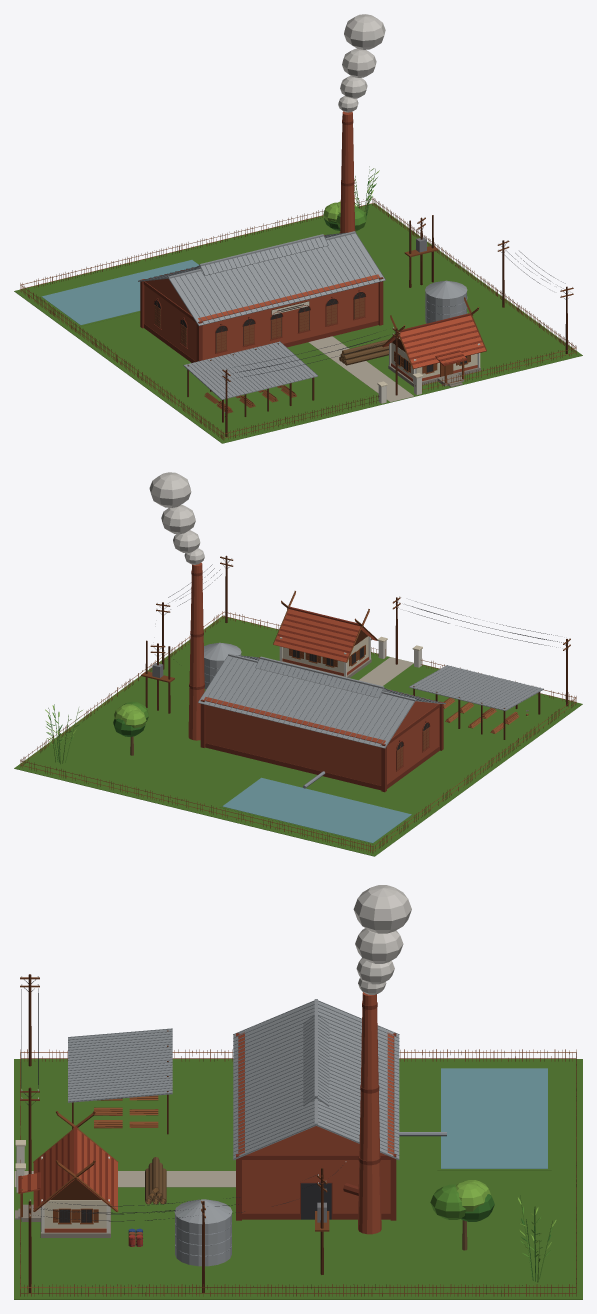
File: power_plant.glb
3 views of the same model, one above another, from view 1: azimuth 30°, elevation 25°; view 2: azimuth 150°, elevation 25°; view 3: azimuth 270°, elevation 25° (orthographic). The views are drawn at different scales.
Visible parts, largest first — view 1: body, windows; view 2: body; view 3: body.
Part boxes in pixels (<box>): body: <box>14,14,582,443</box>; windows: <box>154,292,466,372</box>; body: <box>14,472,582,856</box>; body: <box>14,885,582,1299</box>.
Bounding box in the file's own units: 47.9 × 33.29 × 47.9.
